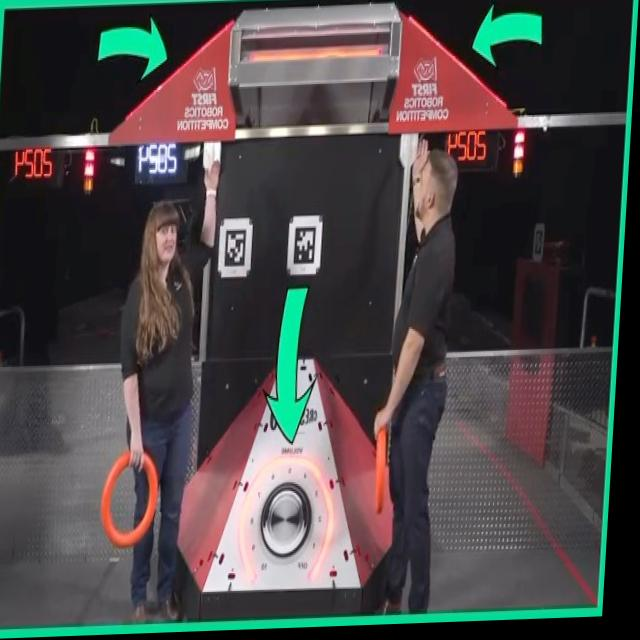note: (105, 447, 168, 552), (378, 431, 397, 519)
